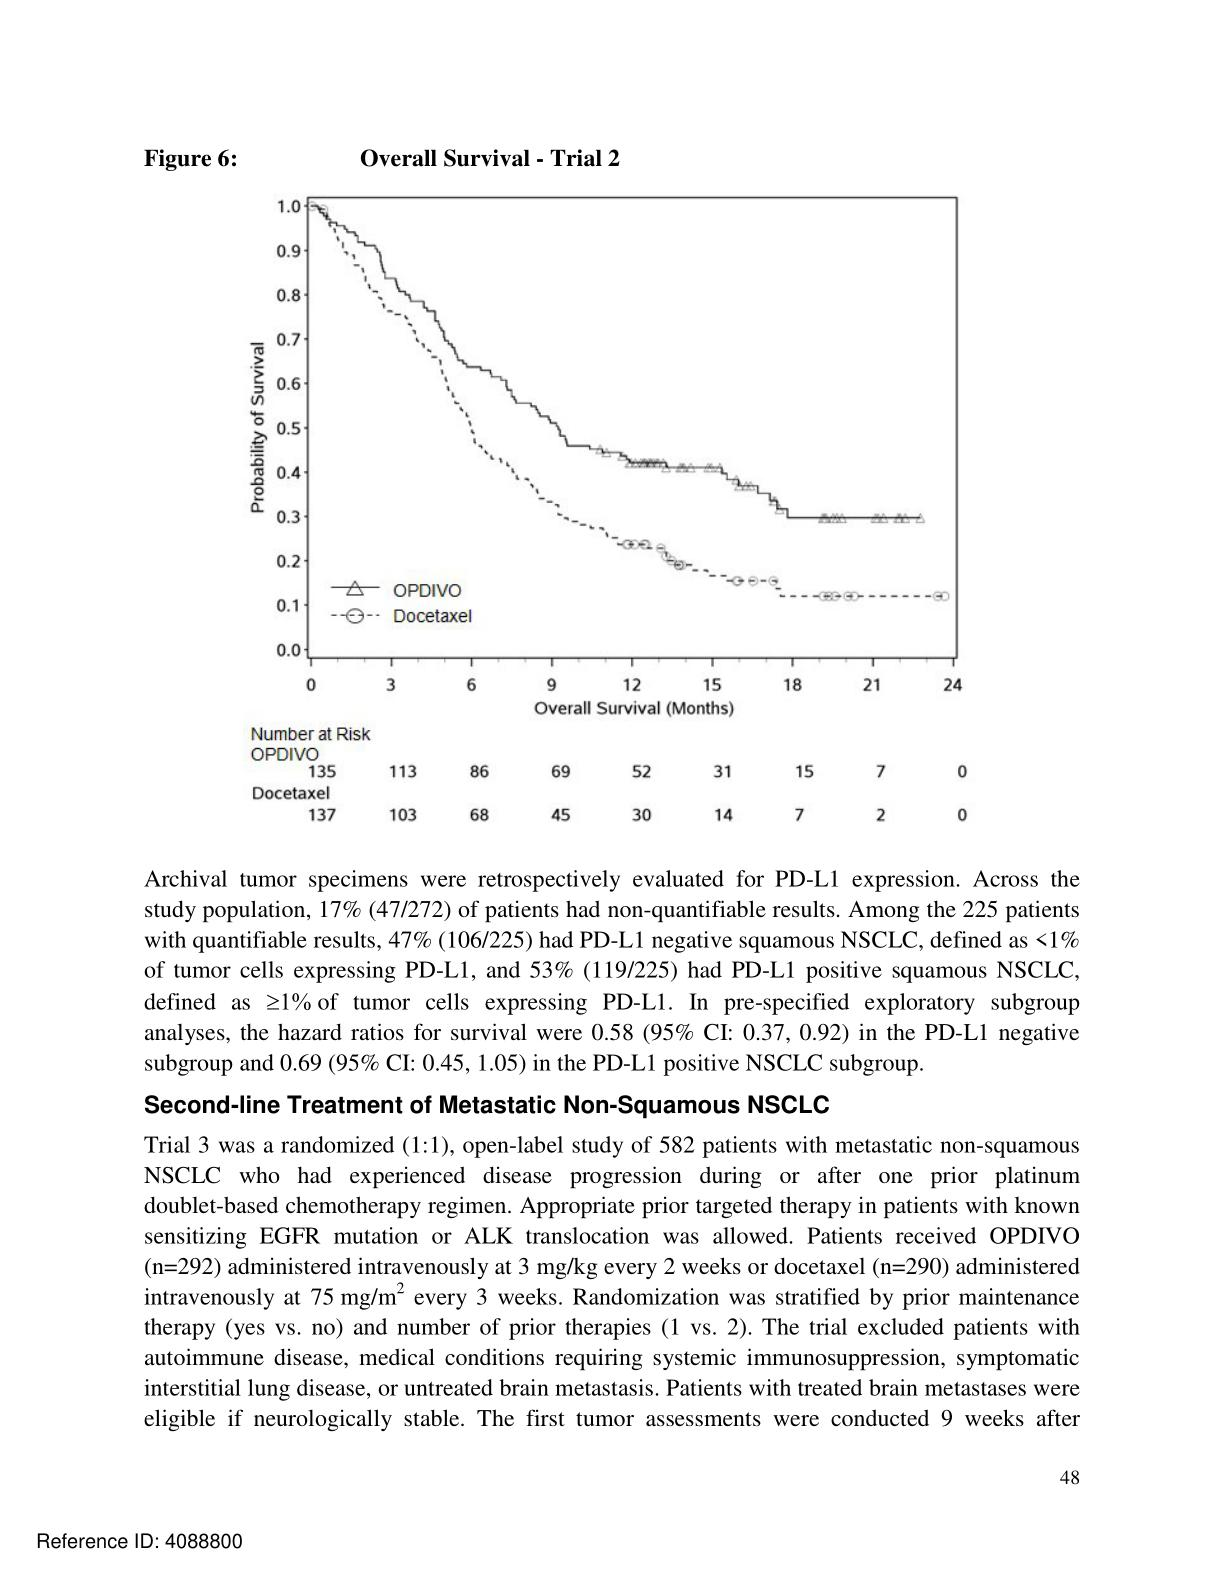nolines: (247, 723, 969, 823)
